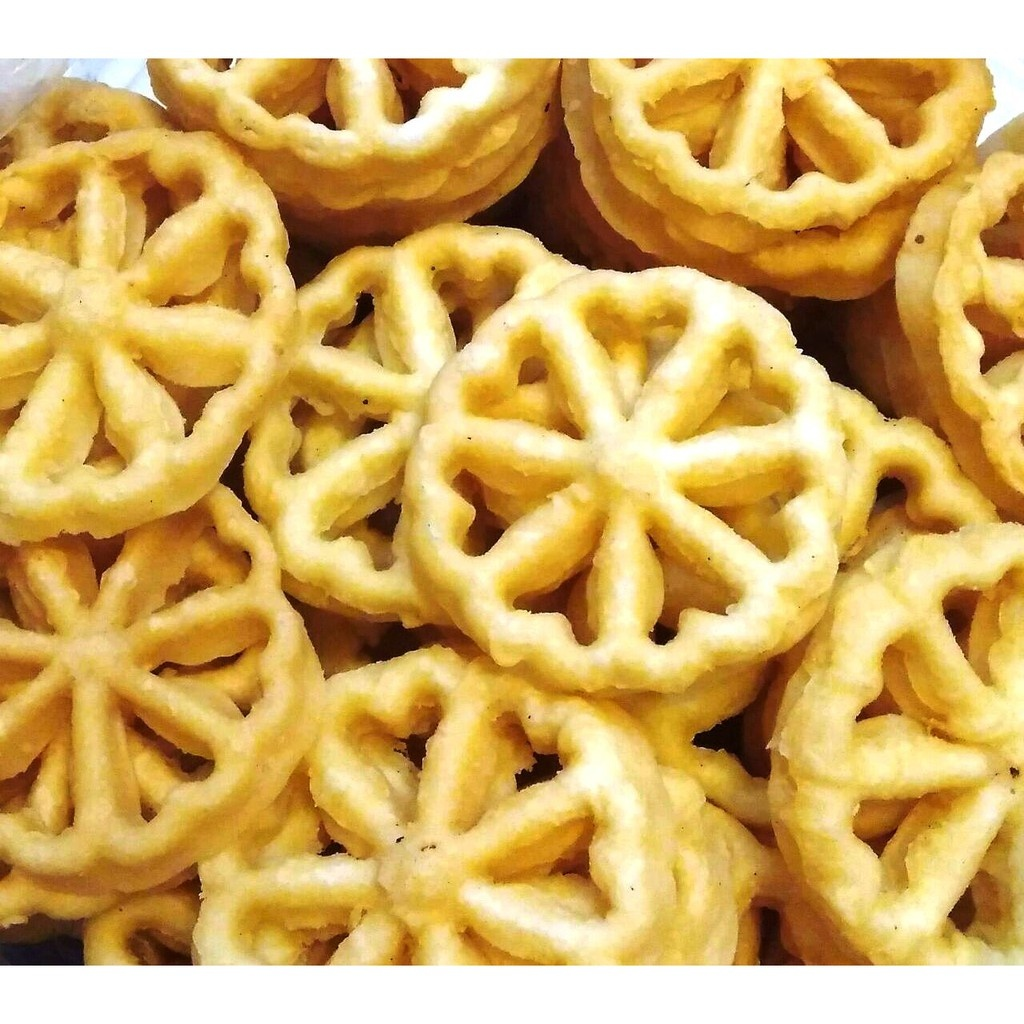kembang_goyang: (387, 257, 852, 674)
